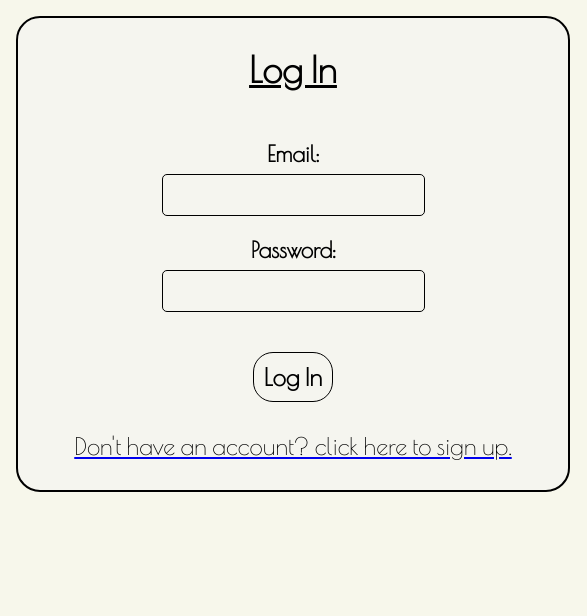
Test: Login › server errors › shows error when user doesn't exist
In the field labelled "Email:": (293, 195) [162,174,424,216], type "email@email.com"
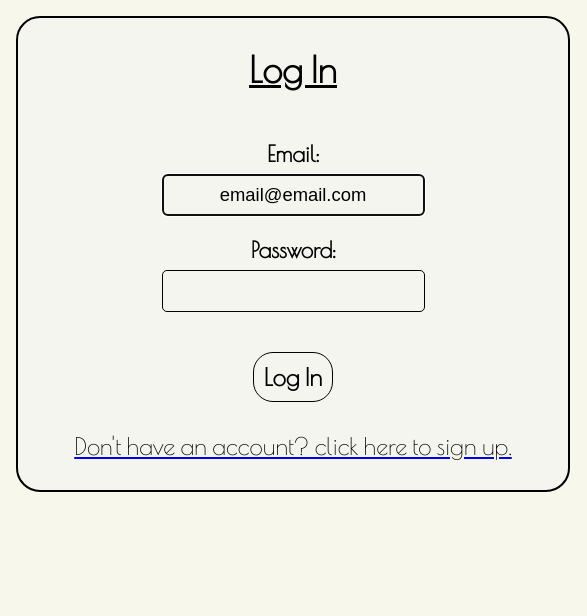
In the password field labelled "Password:": (293, 291) [162,270,424,312], type "password1"
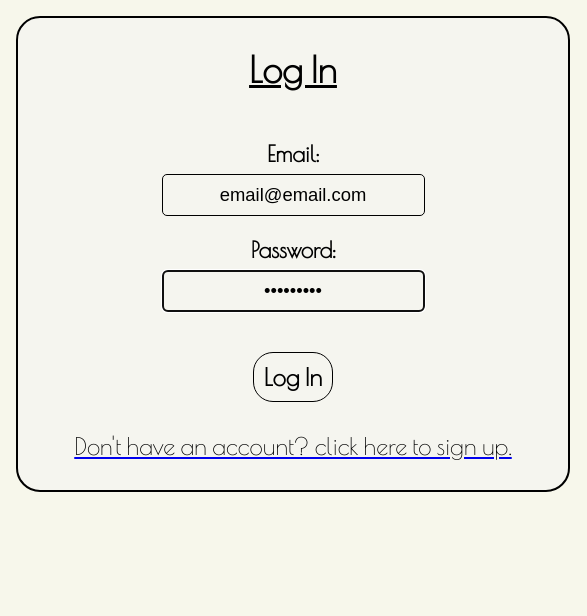
Click the button with test id "log-in-button": (293, 377) [253,352,333,402]
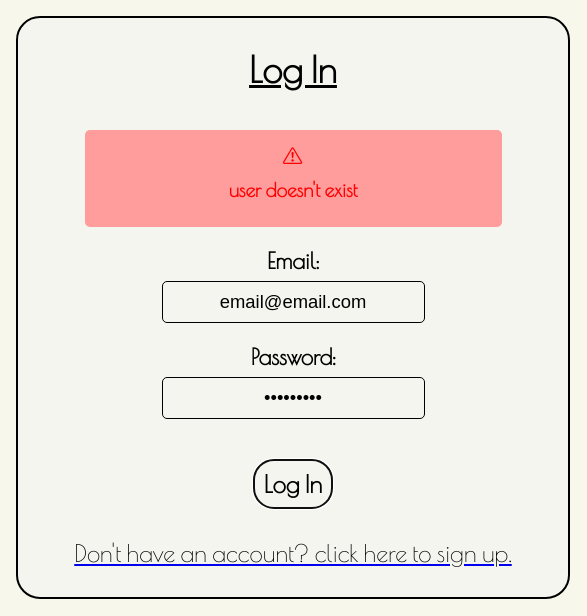
Now the text "user doesn't exist" is shown, box [229,179,357,201]
